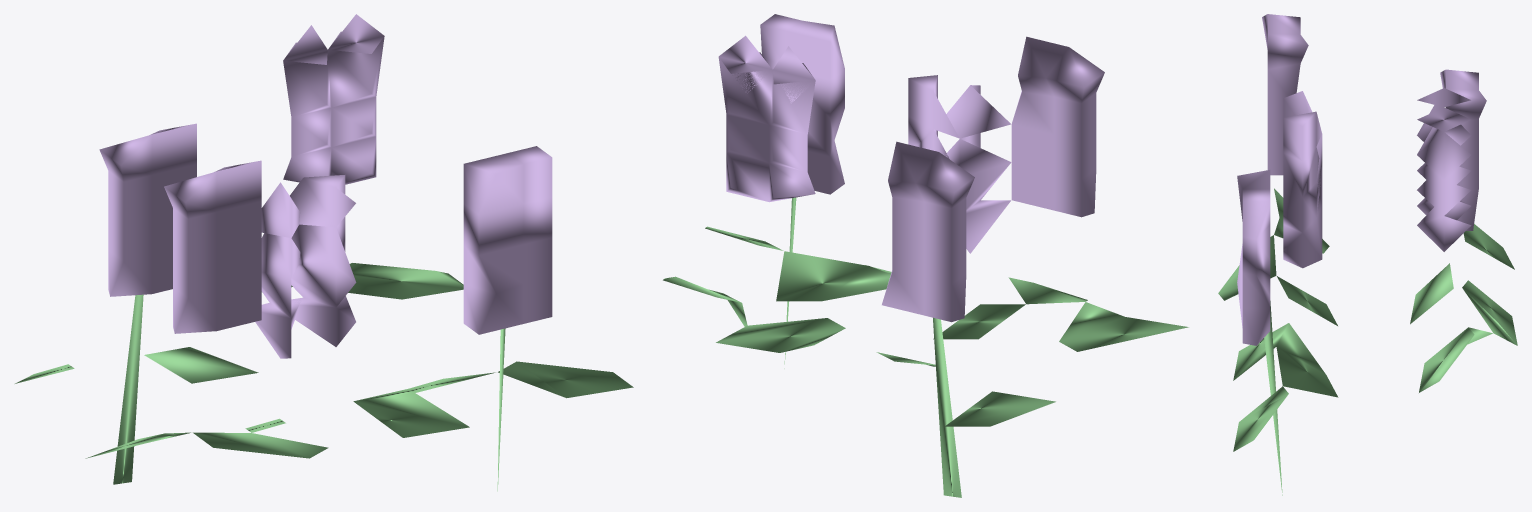
Rendered from flower_3_spring_low.glb.
The picture shows the model from 3 angles, left to right: view 1: azimuth 30°, elevation 25°; view 2: azimuth 150°, elevation 25°; view 3: azimuth 270°, elevation 25°; orthographic projection. The views are drawn at different scales.
Size of the model in its own units: 0.6121 by 0.477 by 0.3392.
